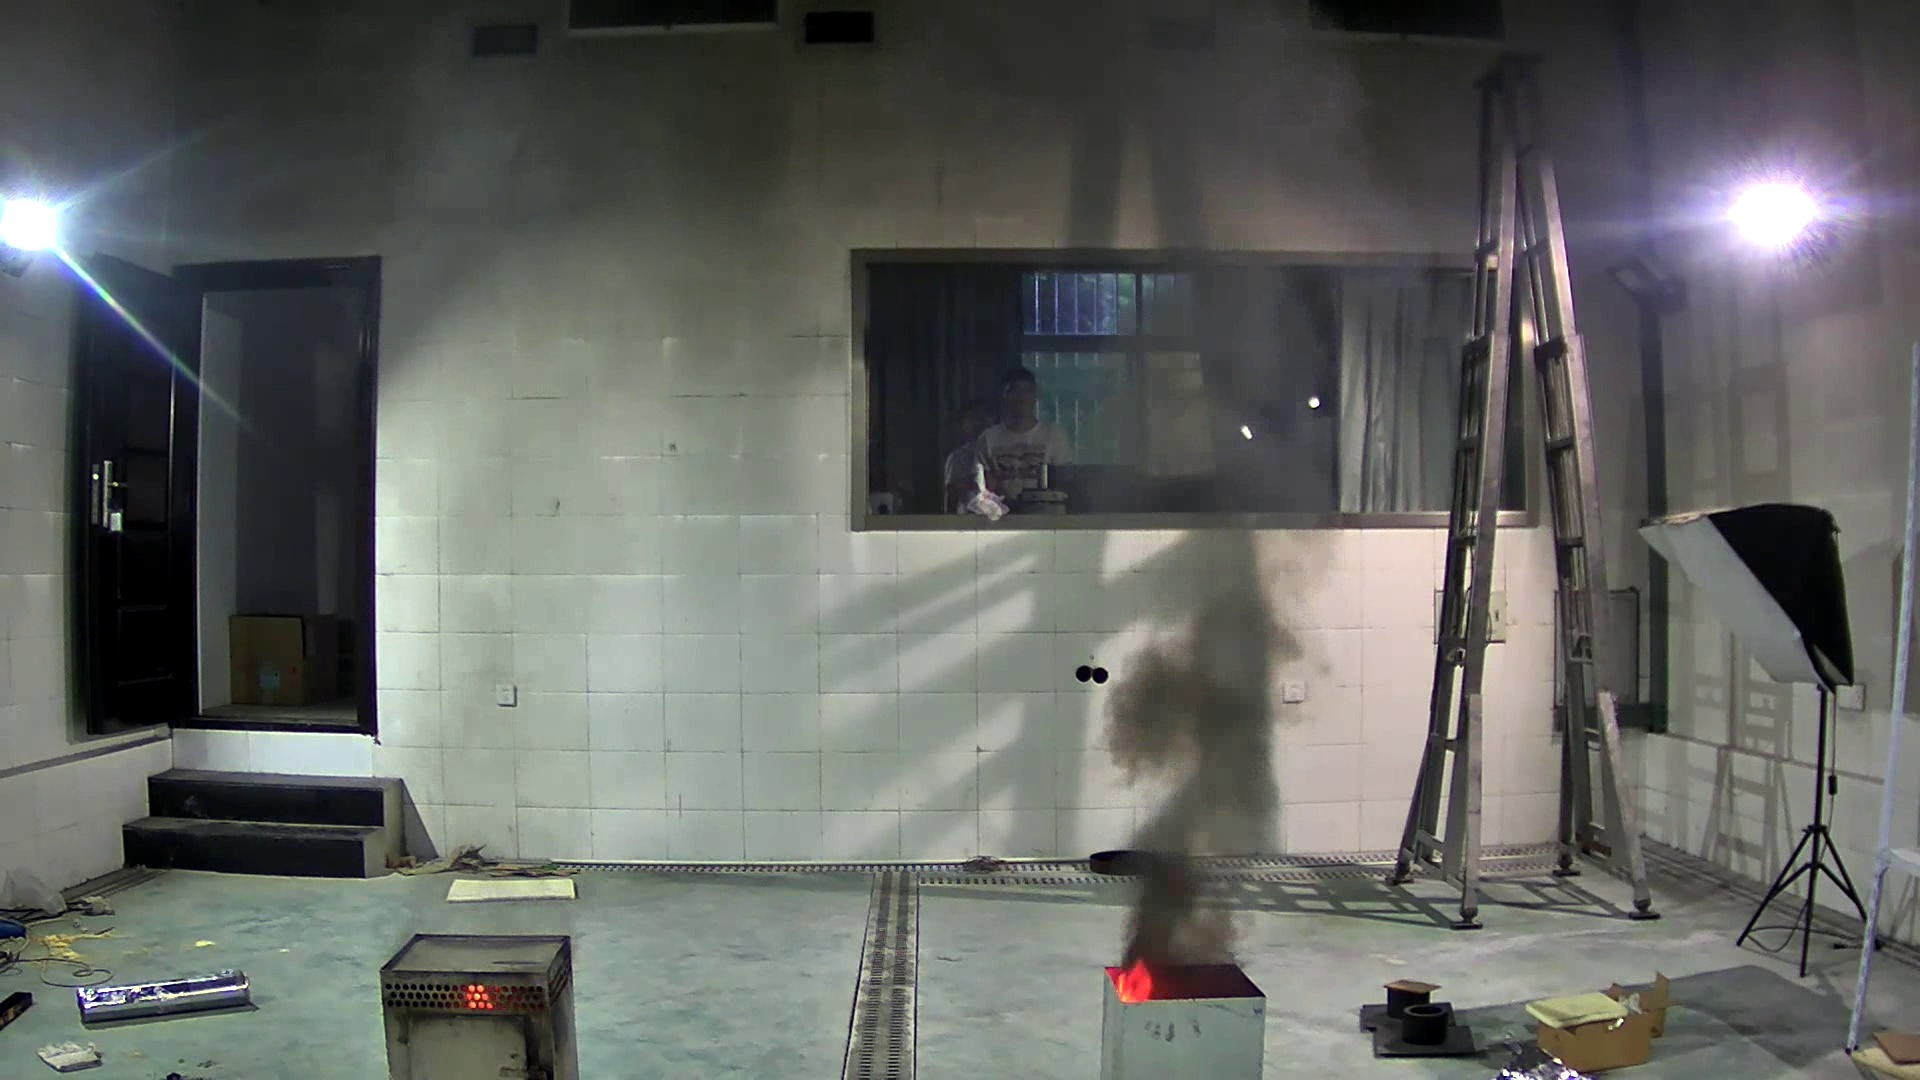smoke: (1073, 563, 1286, 959)
